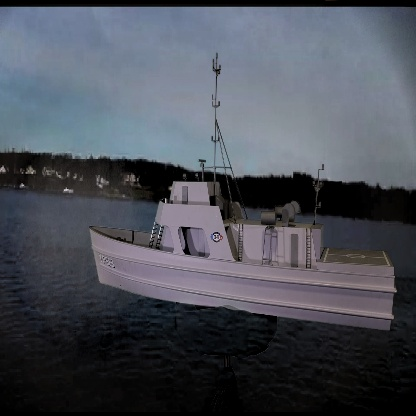YP689: (93, 57, 395, 334)
